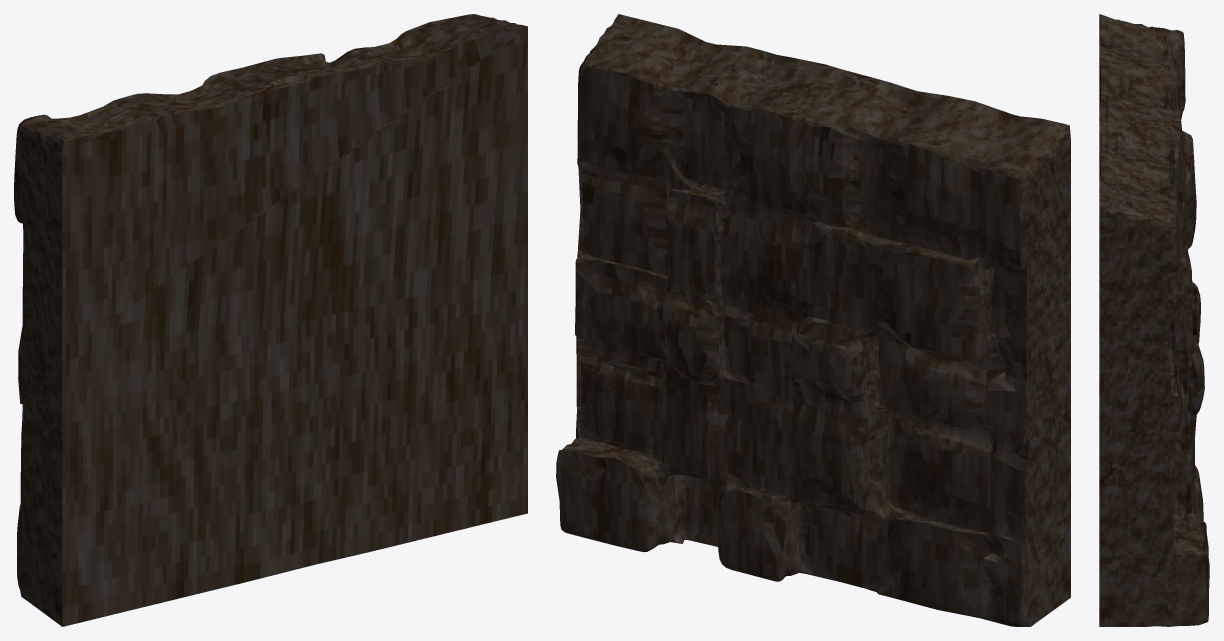
The model's file is cave-corner1.glb.
3 renders of one model, left to right at view 1: azimuth 30°, elevation 25°; view 2: azimuth 150°, elevation 25°; view 3: azimuth 270°, elevation 25°, orthographic. The views are drawn at different scales.
Visible parts, largest first — view 1: Cube; view 2: Cube; view 3: Cube.
Boxes of the visible parts, x1,y1,x2,y2 form: Cube: (14,14,527,626); Cube: (556,14,1070,626); Cube: (1099,14,1209,626).
Size of the model in its own units: 6.01 by 6.04 by 1.43.
Materials: 1 (1 with a texture image).
